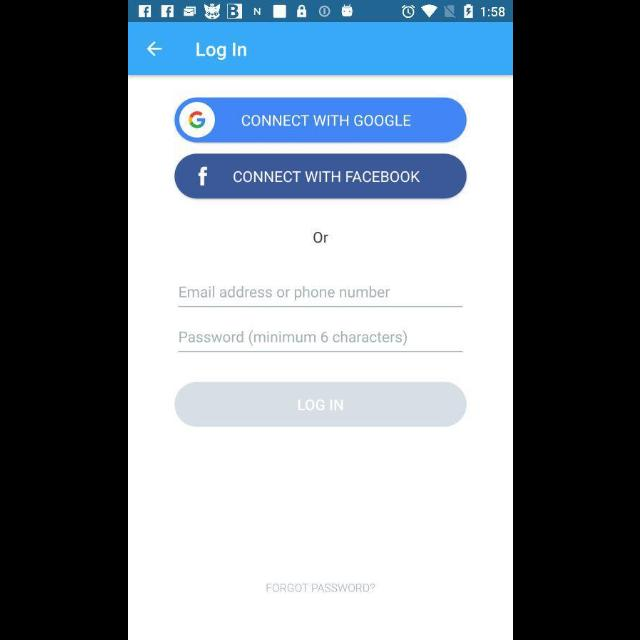icon: (146, 42, 162, 56)
input: (178, 285, 462, 307), (178, 330, 462, 352)
text: (179, 330, 407, 346), (178, 287, 390, 301), (197, 42, 247, 62), (266, 584, 374, 592), (312, 232, 328, 244)
textbutton: (174, 98, 466, 144), (174, 382, 466, 428), (174, 154, 466, 198)
toolbar: (128, 23, 512, 75)
uppertaskbar: (128, 1, 512, 23)
